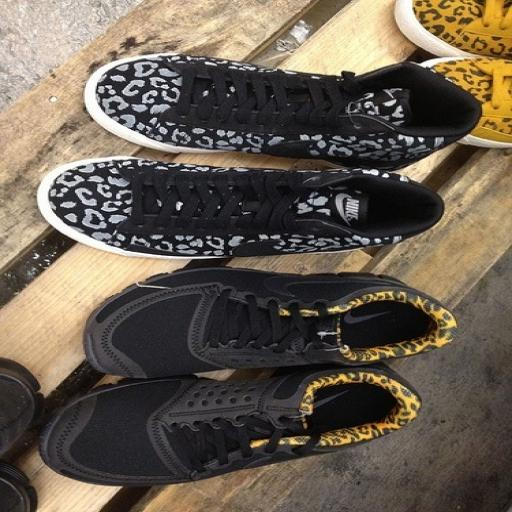shoe: (38, 72, 445, 258), (40, 364, 420, 486), (85, 54, 479, 170), (85, 267, 456, 378), (422, 58, 512, 148), (394, 0, 512, 58), (0, 358, 42, 454), (0, 460, 38, 512)
